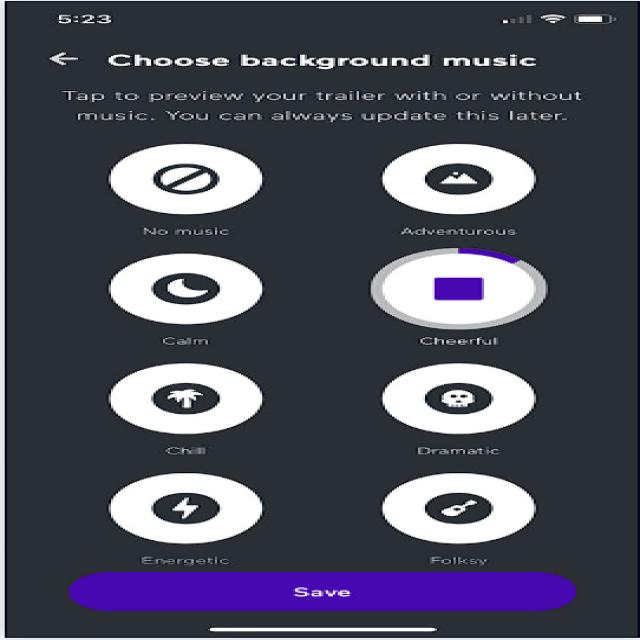button: (59, 568, 606, 620)
column: (66, 139, 335, 572), (355, 140, 611, 567)
icon button: (33, 48, 99, 73)
row: (10, 138, 640, 246), (24, 357, 618, 464), (21, 464, 640, 566), (22, 254, 638, 354)
text: (45, 84, 618, 131), (110, 43, 552, 73)
view: (369, 140, 566, 249), (370, 250, 571, 355), (92, 360, 290, 462), (98, 142, 285, 242), (378, 466, 557, 570), (372, 361, 554, 462), (101, 467, 281, 568), (98, 252, 278, 350)
